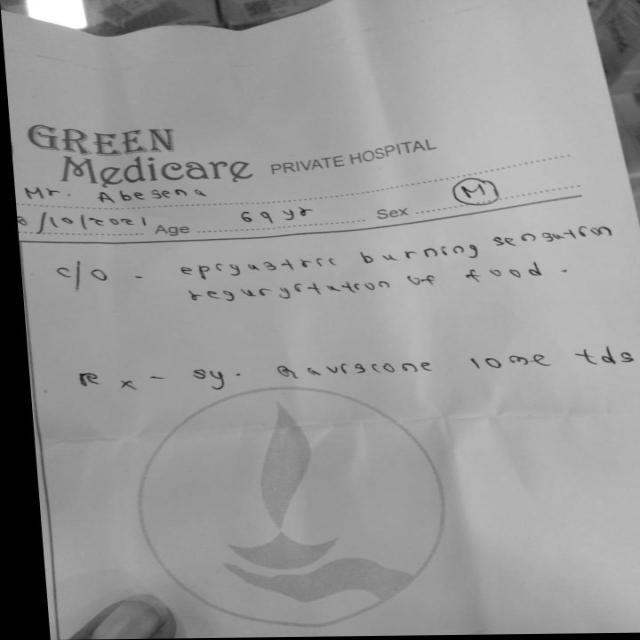Prescription: (262, 342, 633, 380)
